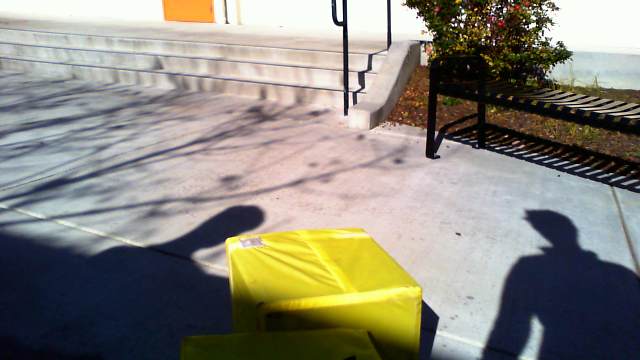cube: (225, 225, 422, 360), (181, 327, 383, 360)
